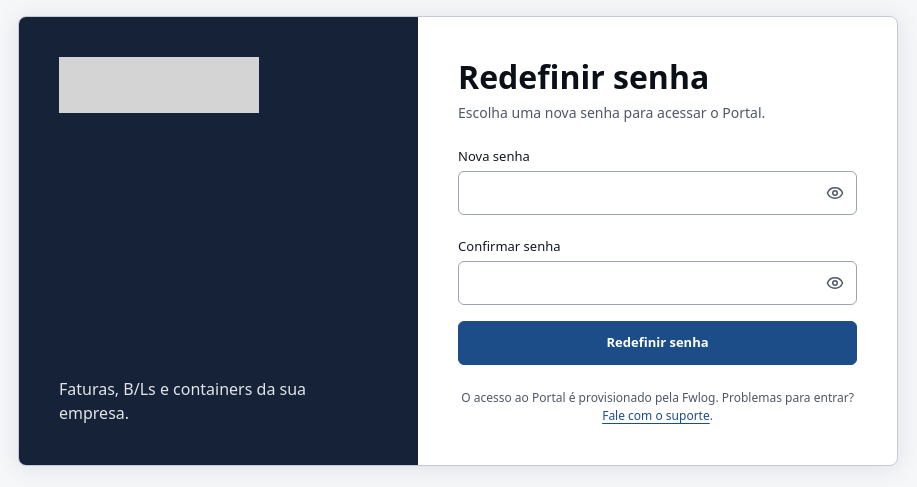
Test: PortalResetPassword — confirmação › POR-D04: link vencido ou já usado (410) mostra "Link inválido ou expirado" e leva a pedir outro
Type "senhaNova123" into the password field labelled "Nova senha" at (658, 193), box [458,171,857,215]
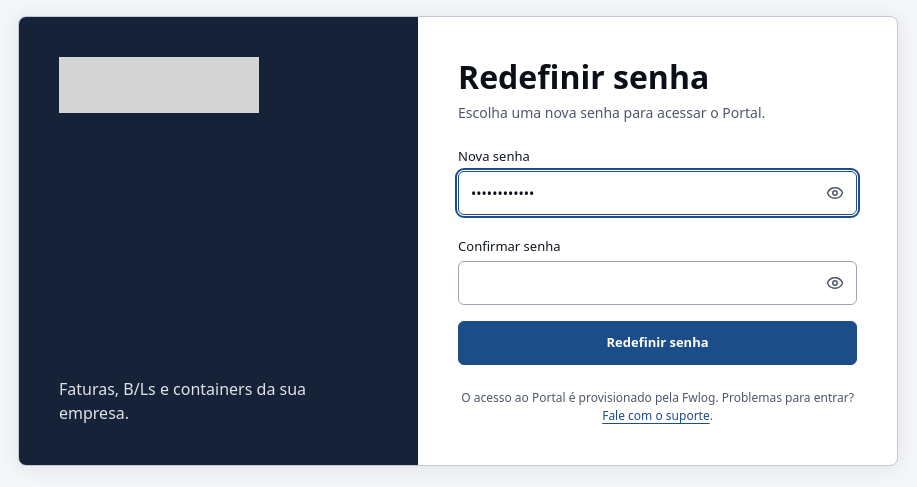
Type "senhaNova123" into the password field labelled "Confirmar senha" at (658, 283), box [458,261,857,305]
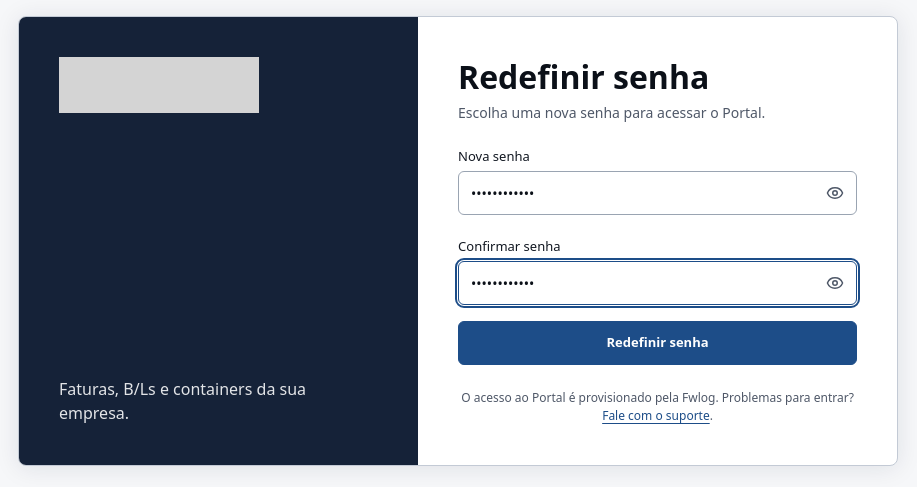
Click the button "Redefinir senha" at (658, 343), box [458,321,857,365]
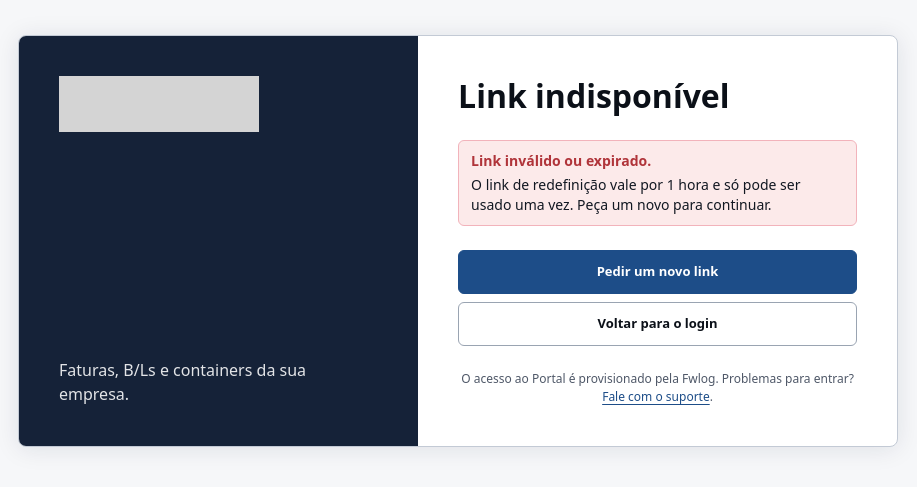
Expected: the heading "Link indisponível" is shown, [458,74,730,117]
Expected: the text "Link inválido ou expirado." is shown, [471,151,651,170]
Expected: the link "Pedir um novo link" is shown, [458,250,857,294]
